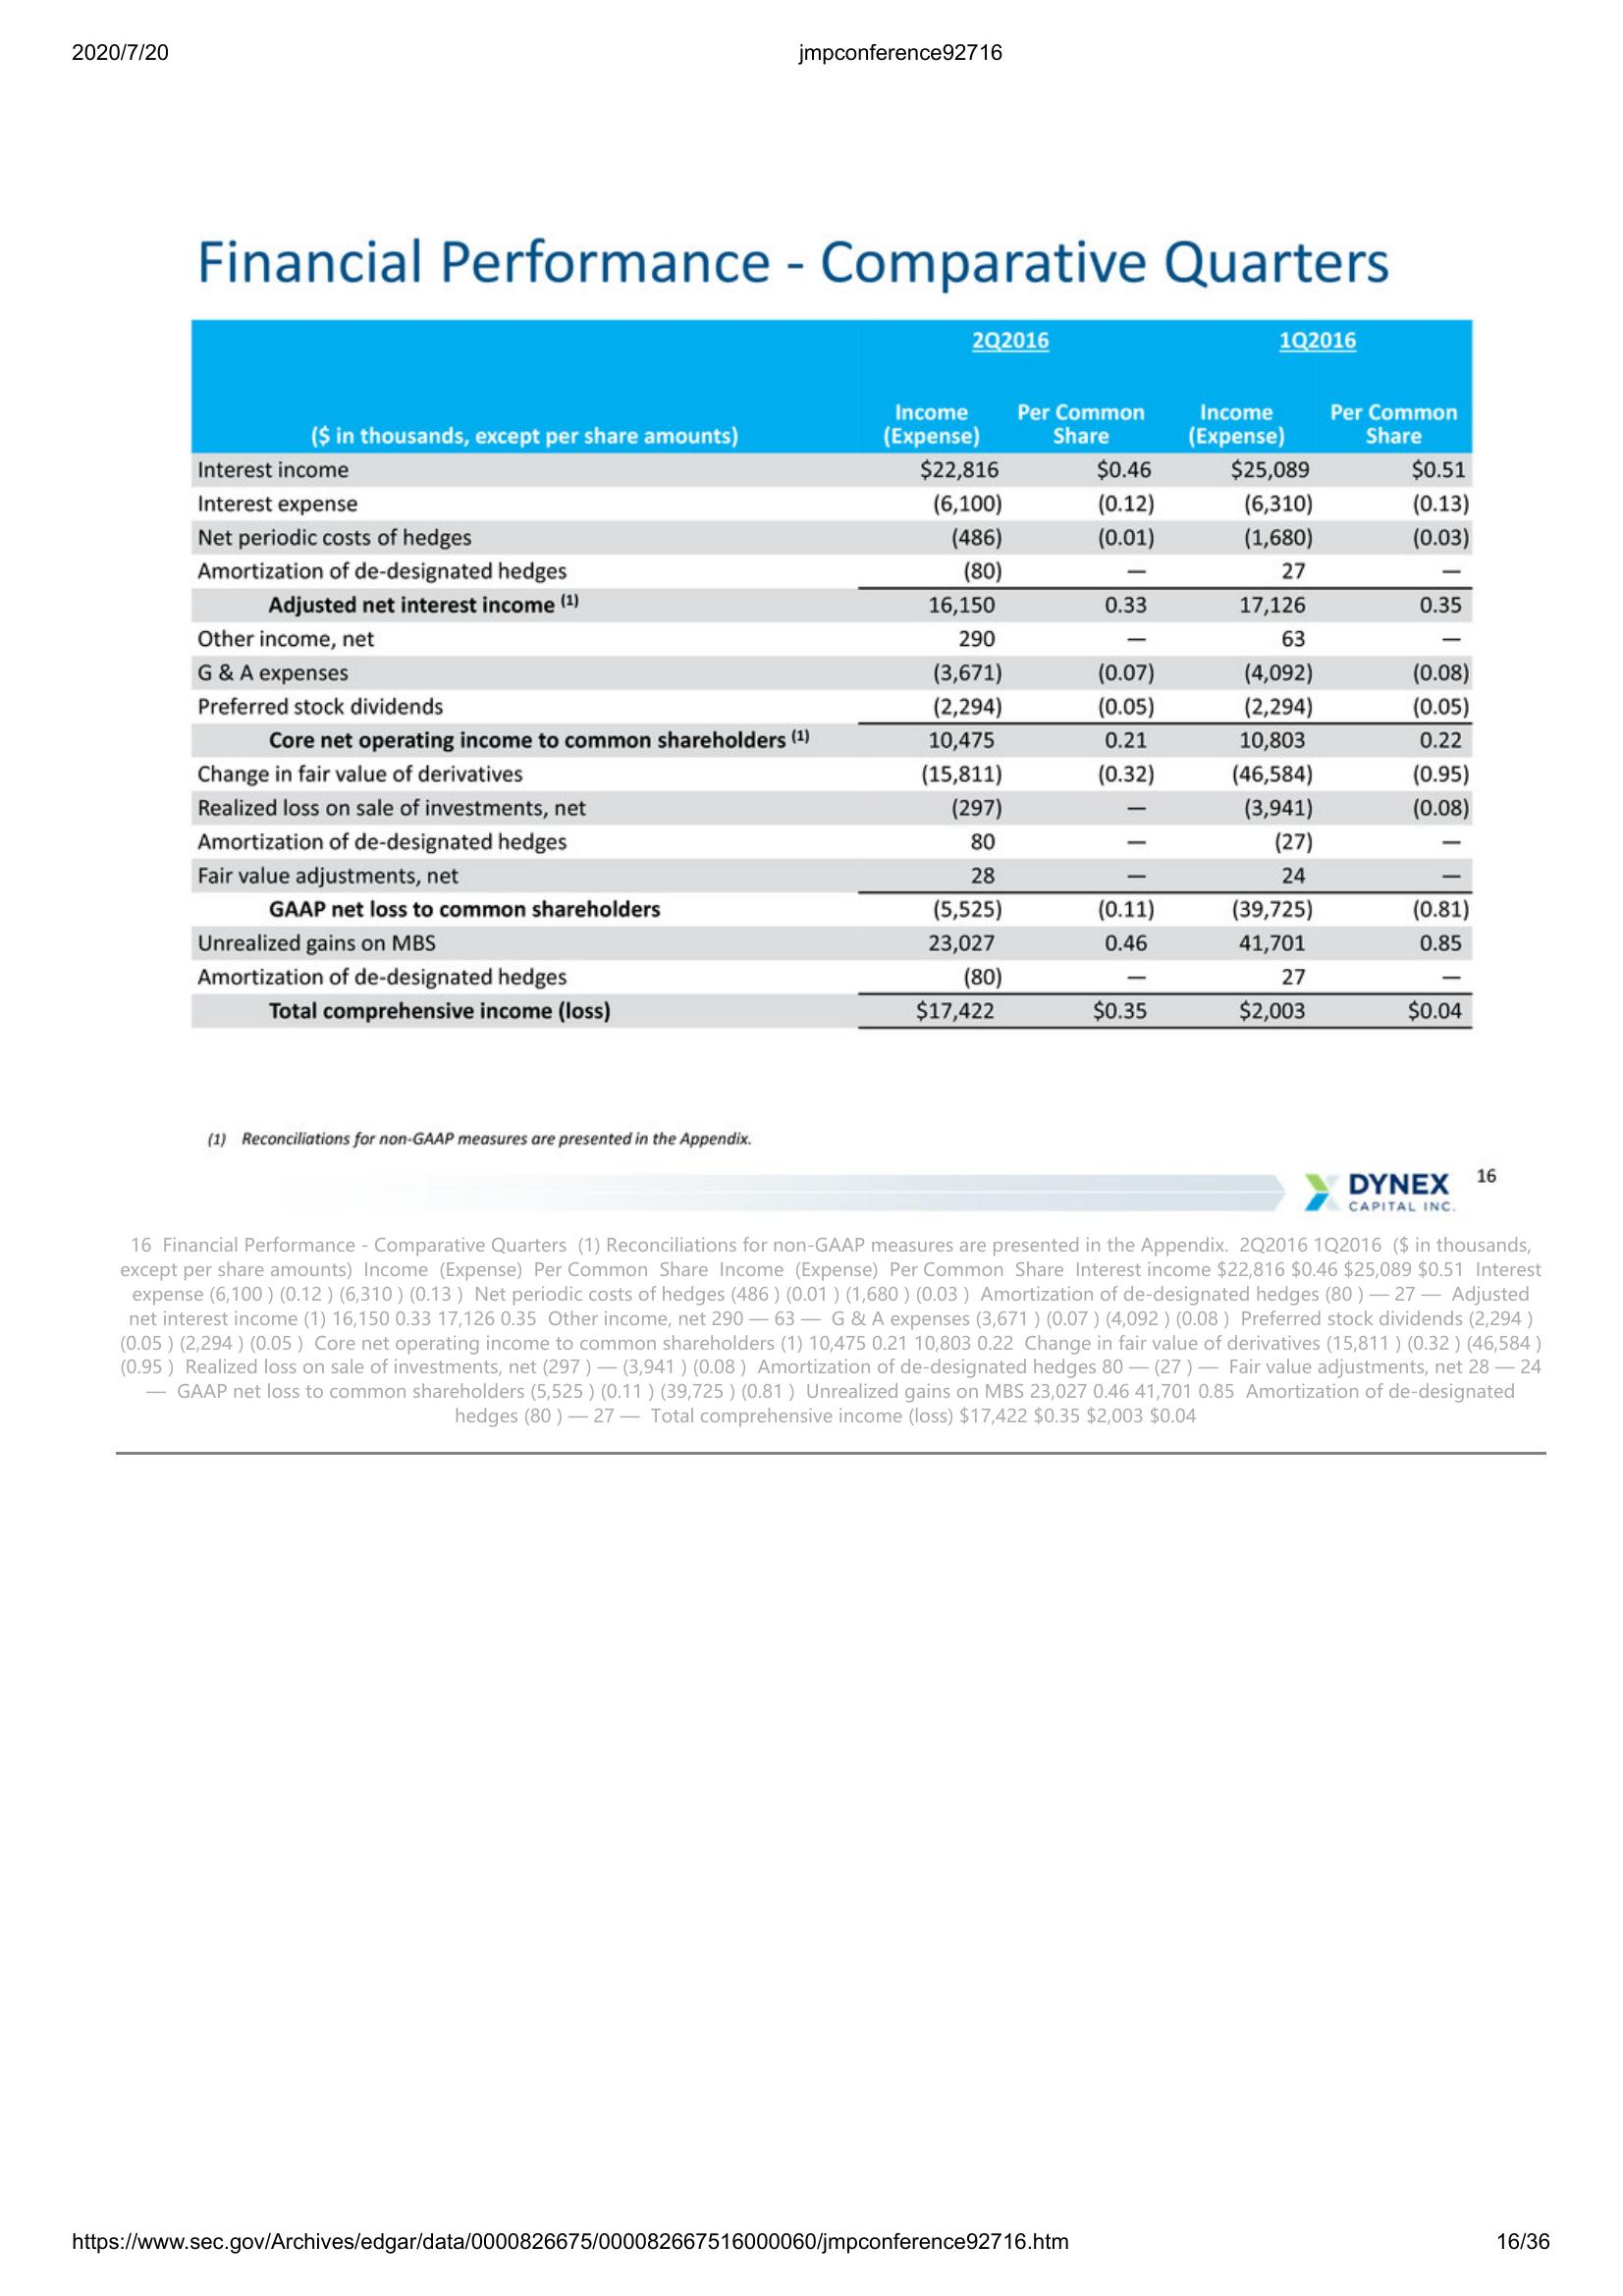table: (188, 316, 1479, 1037)
